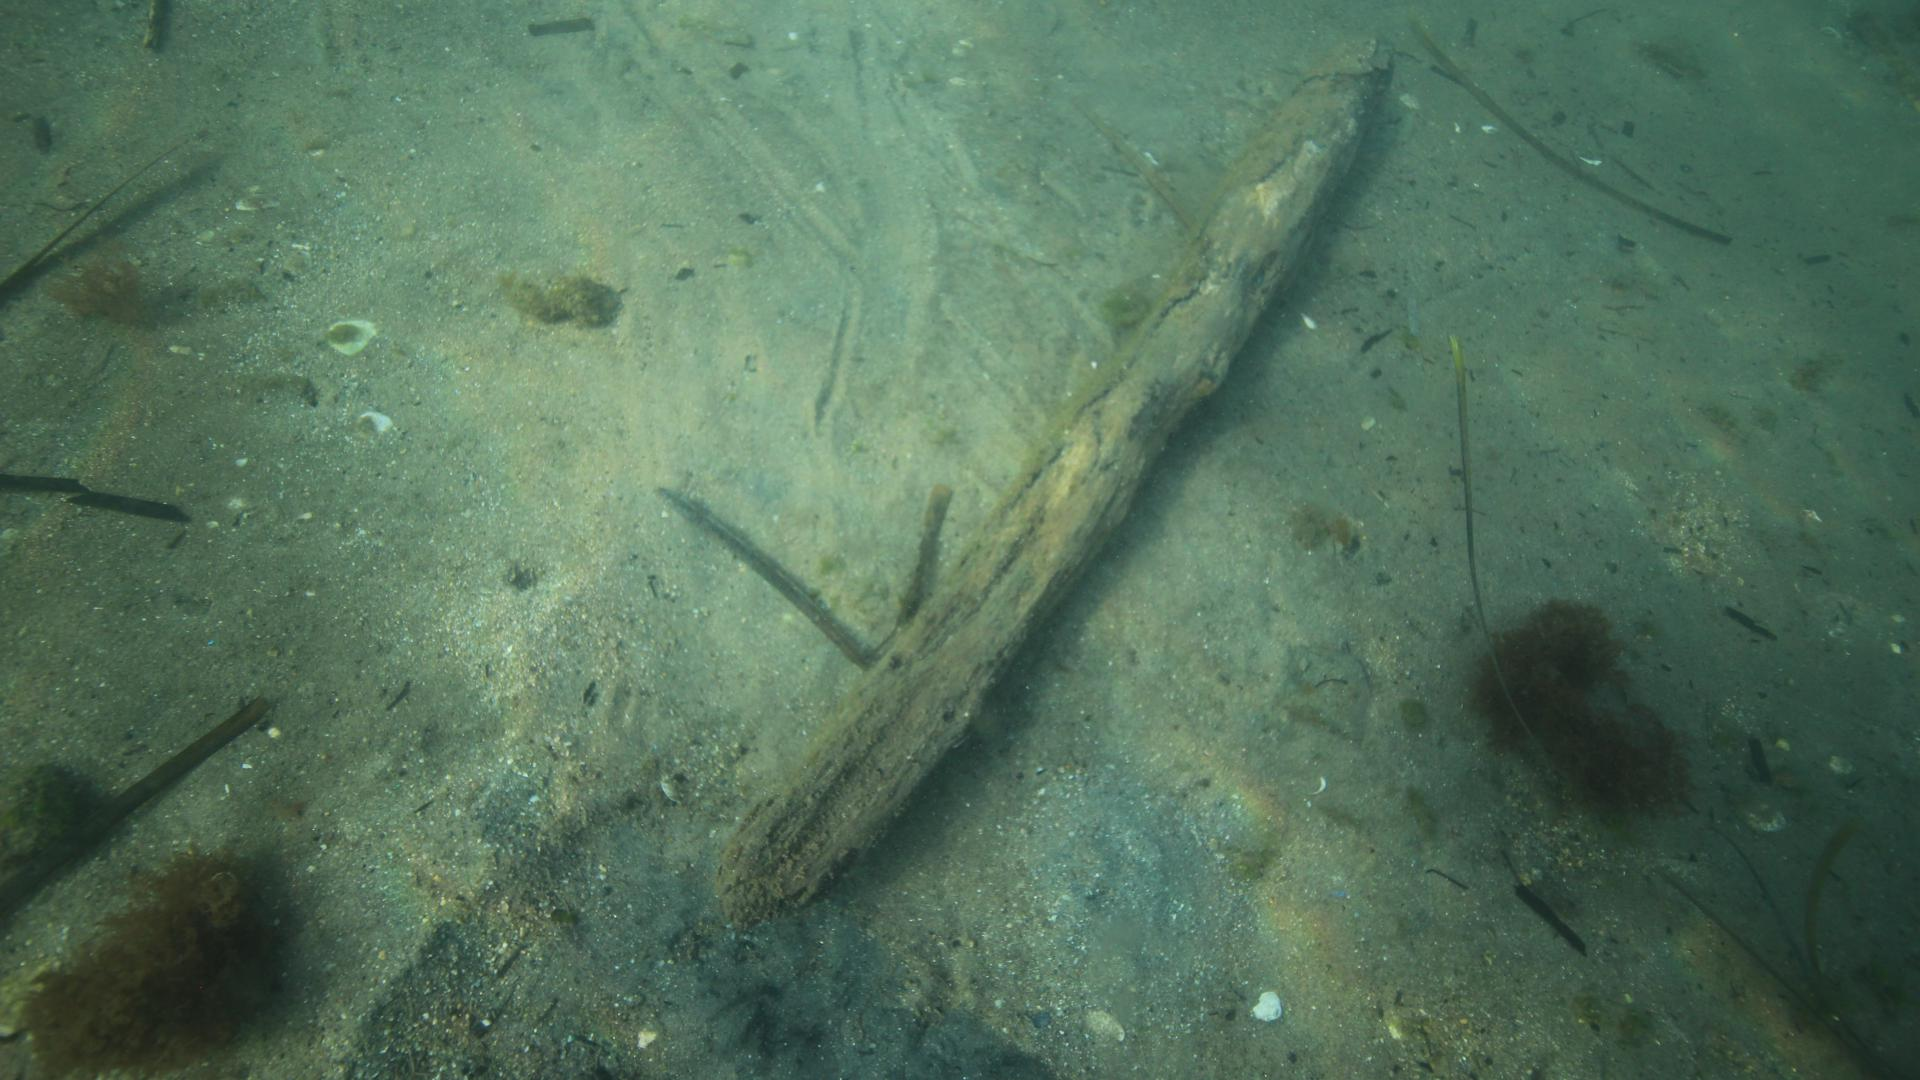wood: (711, 32, 1396, 938)
